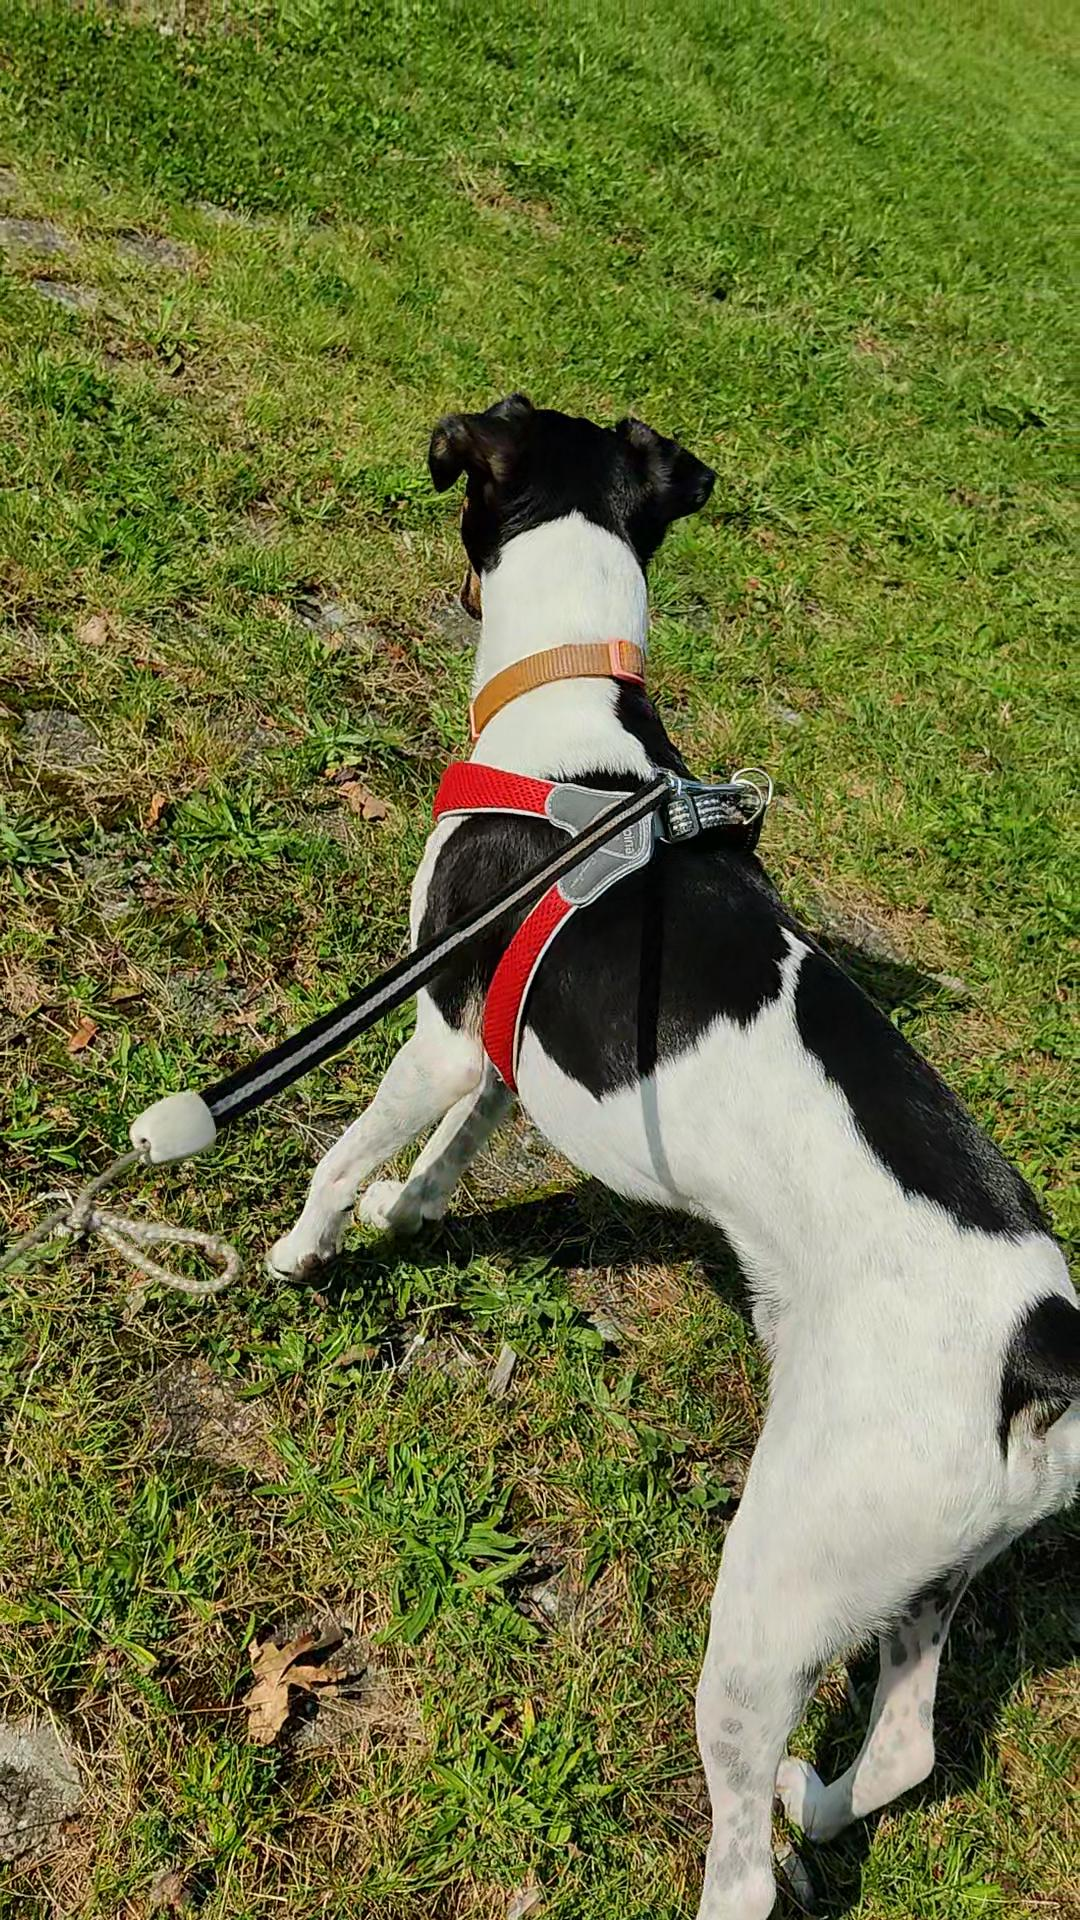Dog: (247, 363, 1079, 1919)
